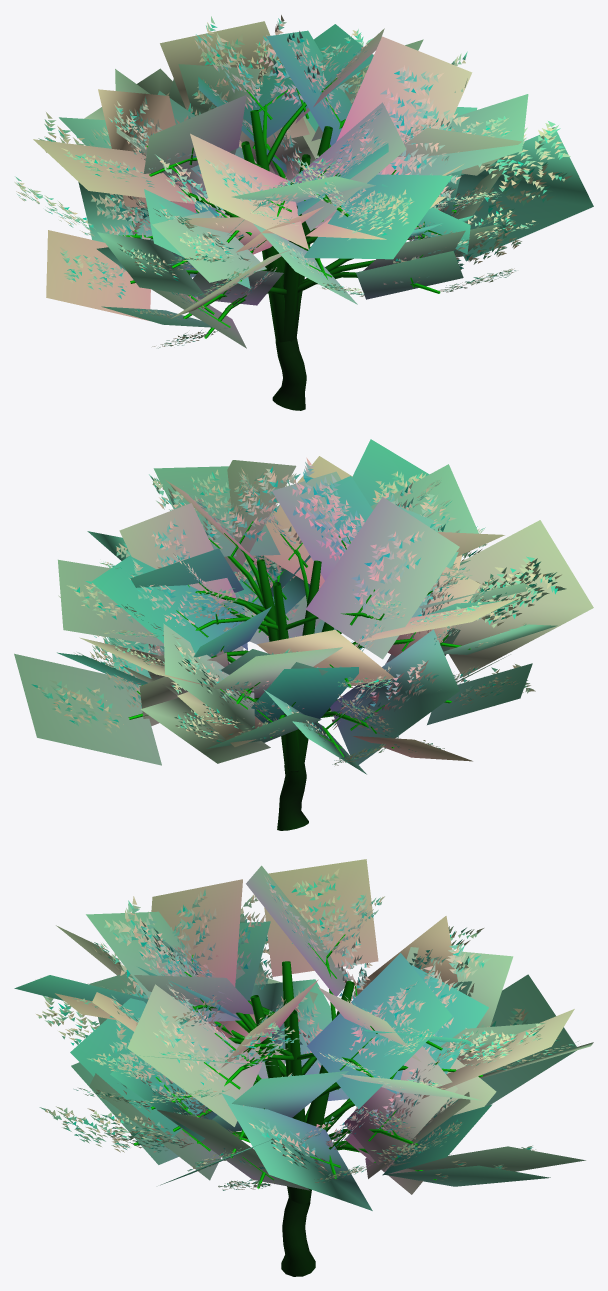
File: hill_c_3.glb
The picture shows the model from 3 angles, top to bottom: view 1: azimuth 30°, elevation 25°; view 2: azimuth 150°, elevation 25°; view 3: azimuth 270°, elevation 25°; orthographic projection. The views are drawn at different scales.
Visible parts, largest first — view 1: mid, near; view 2: mid, near; view 3: mid, near.
Part boxes in pixels (bbox=[...]): mid: bbox=[33, 21, 593, 348]; near: bbox=[14, 15, 572, 410]; mid: bbox=[14, 439, 593, 774]; near: bbox=[31, 457, 566, 830]; mid: bbox=[14, 859, 593, 1210]; near: bbox=[36, 868, 578, 1276].
Bounding box in the file's own units: 5.93 × 4.26 × 6.36.
